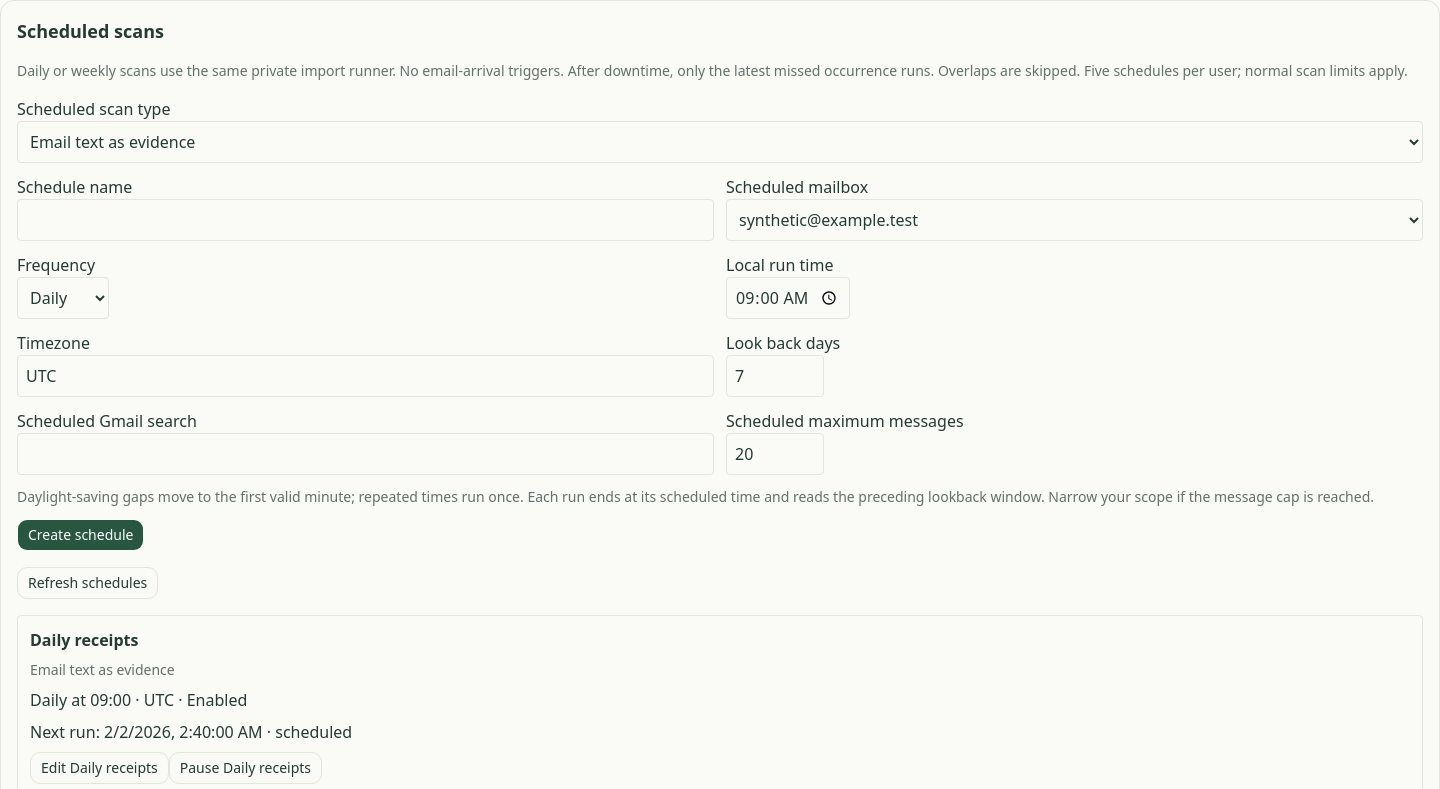
Test: undoes a pause with the revision the pause returned
The width and height of the screenshot is (1440, 789).
Click the button "Pause Daily receipts" at (245, 768), box top-left (169, 752), bottom-right (322, 784)
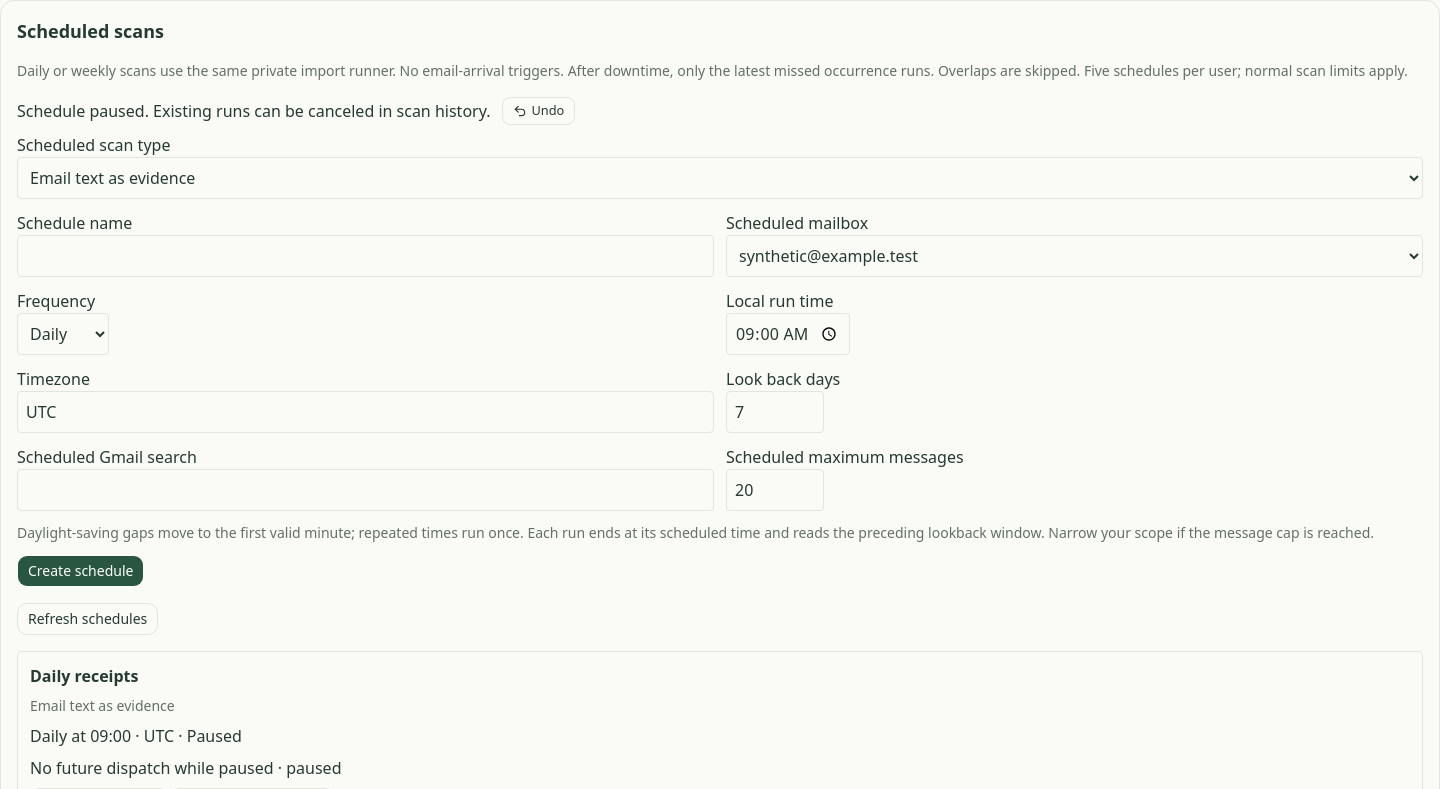
Click the button with aria-label "Undo pause" at (539, 111), box top-left (502, 97), bottom-right (575, 125)
(page scrolled)
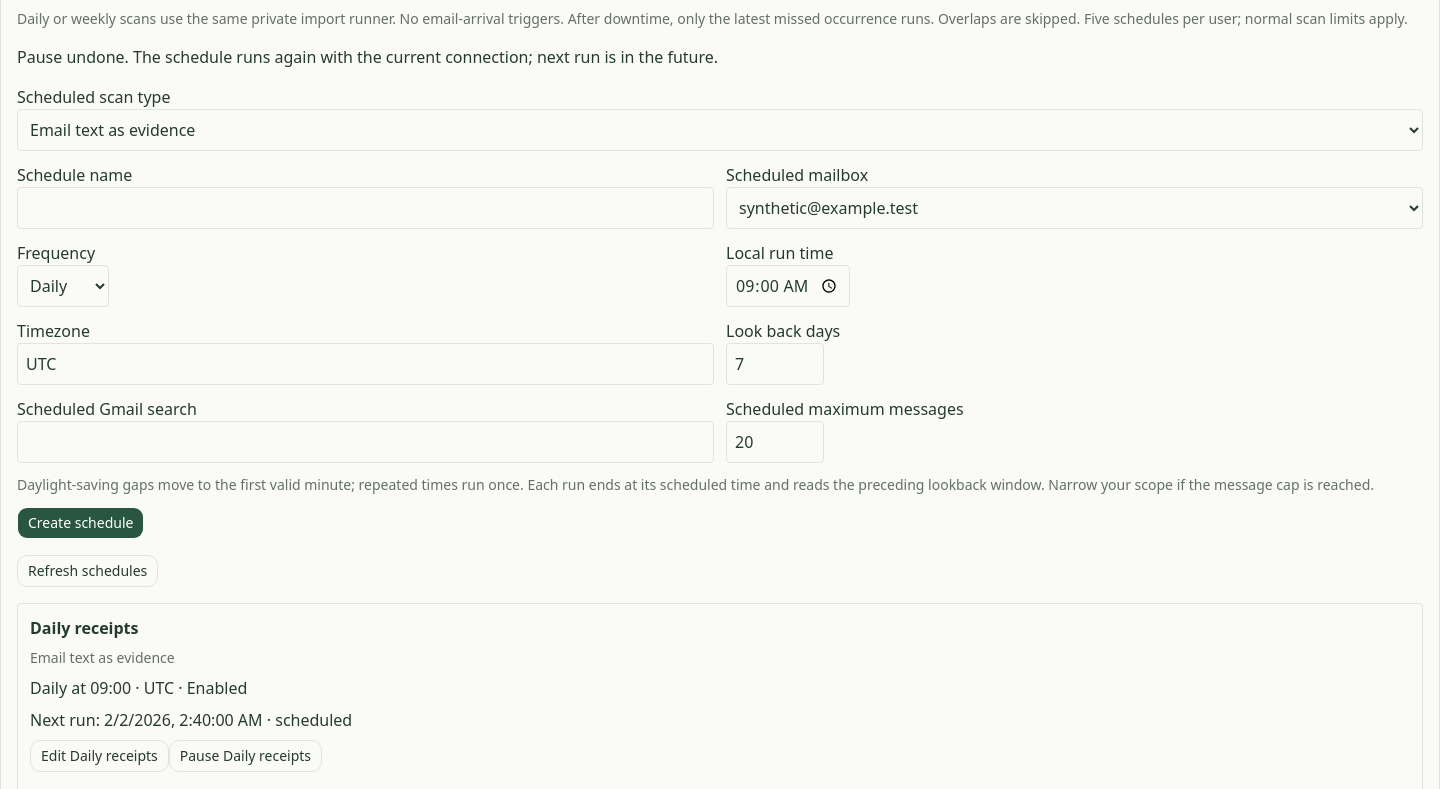
expect the text "Pause undone" is shown: met, box top-left (17, 46), bottom-right (718, 68)
expect the button "Pause Daily receipts" is shown: met, box top-left (169, 740), bottom-right (322, 772)
